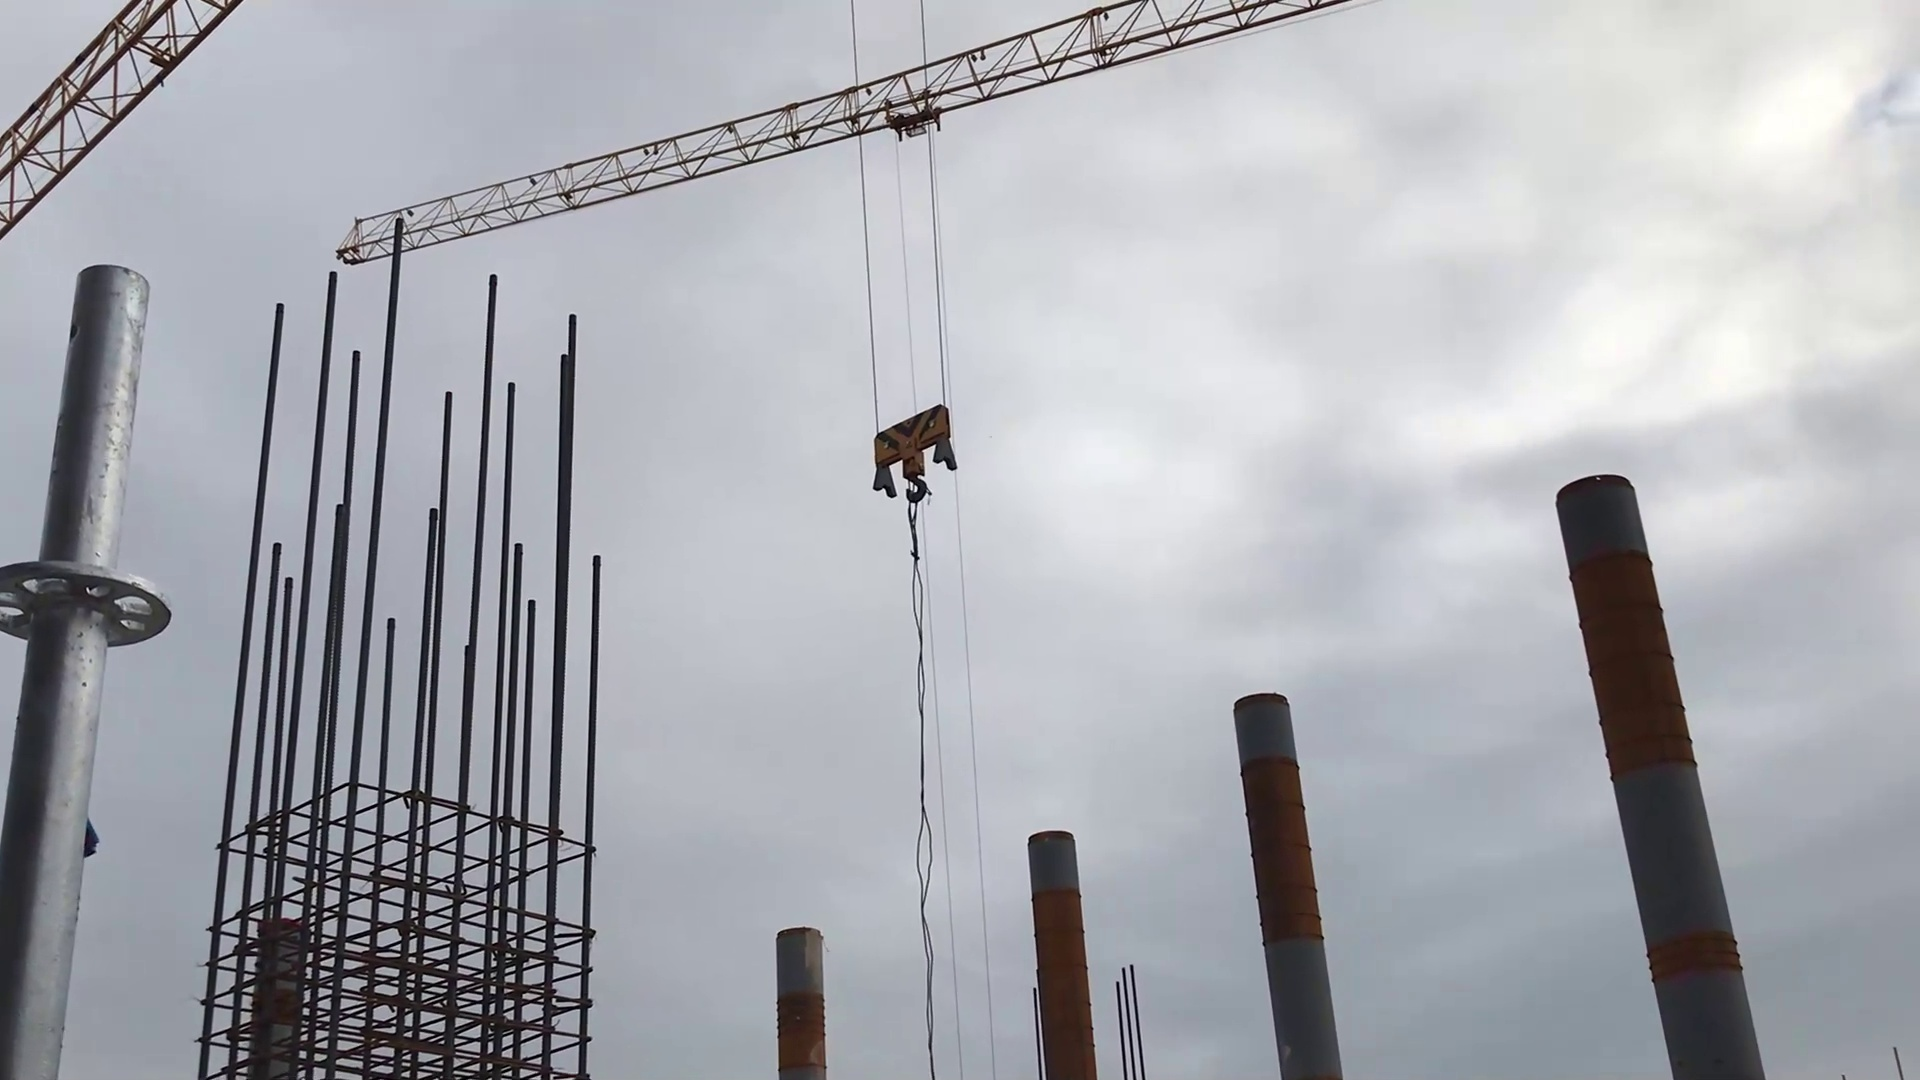hook: (866, 397, 963, 521)
